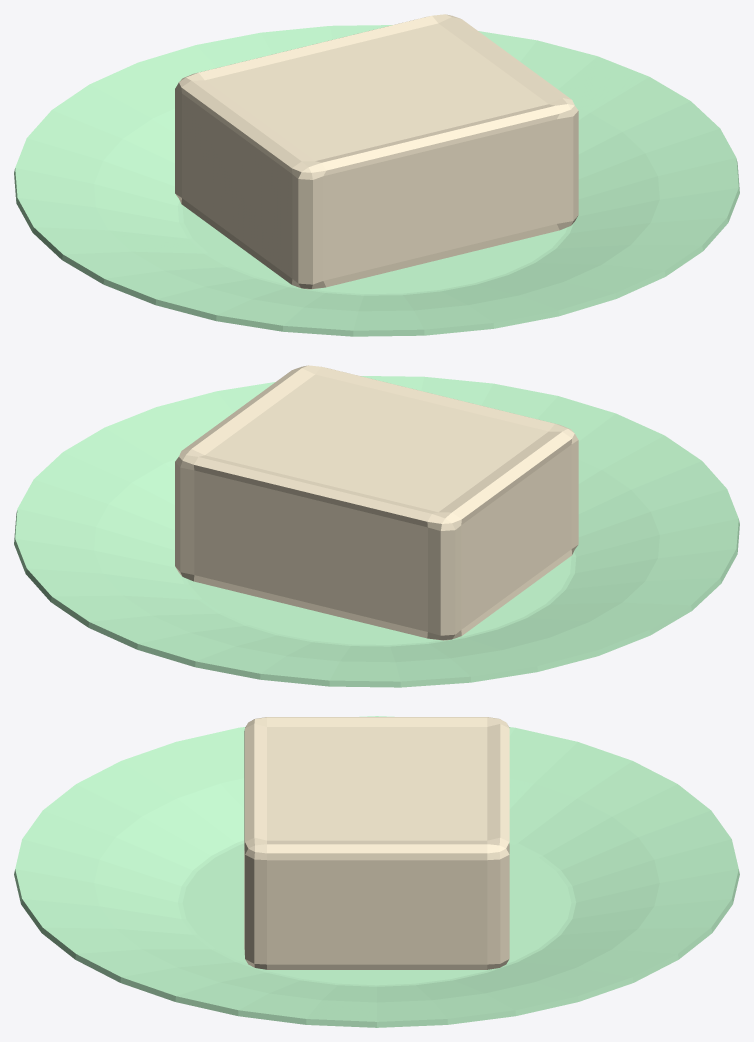
File: tofu.fbx
The picture shows the model from 3 angles, top to bottom: view 1: azimuth 30°, elevation 25°; view 2: azimuth 150°, elevation 25°; view 3: azimuth 270°, elevation 25°; orthographic projection.
Parts seen in each view (by area): view 1: 원형.010, 큐브.013; view 2: 원형.010, 큐브.013; view 3: 원형.010, 큐브.013.
Part boxes in pixels (x1,y1,x2,y2): 원형.010: (14,25,739,336); 큐브.013: (175,14,578,289); 원형.010: (14,376,739,687); 큐브.013: (175,365,578,640); 원형.010: (14,716,739,1027); 큐브.013: (244,717,509,969).
Bounding box in the file's own units: 251 × 53.61 × 251.
